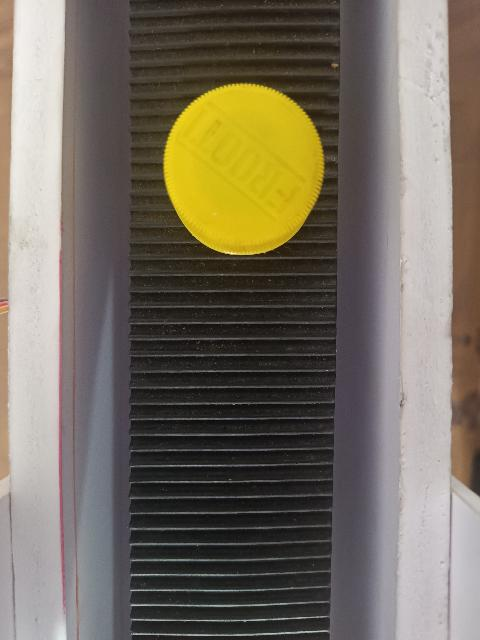bottlecap: (164, 79, 328, 261)
